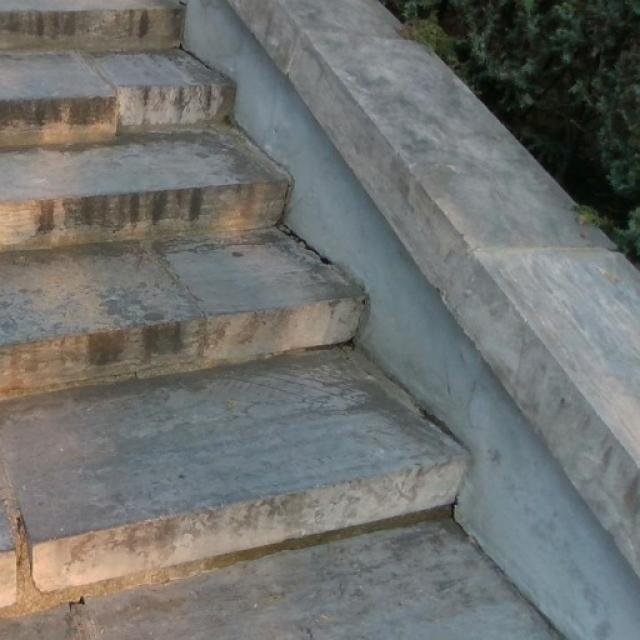Stairs: (0, 0, 475, 620)
